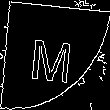M_N: (31, 26, 79, 84)
